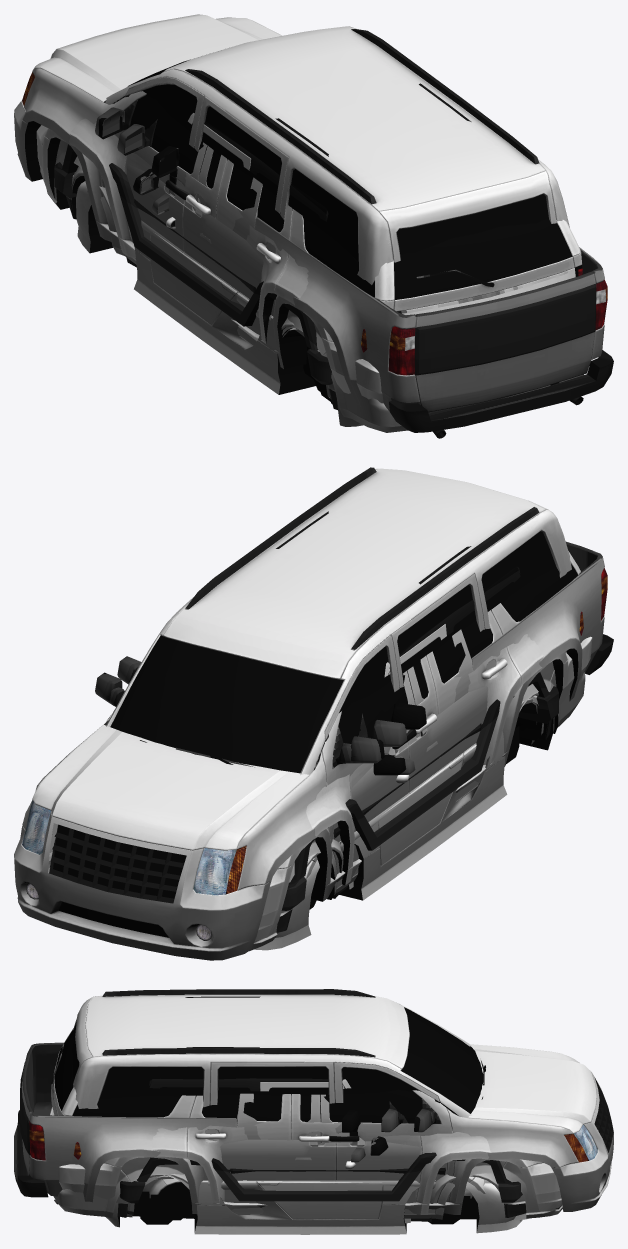
The model's file is traffic-pack.glb.
The picture shows the model from 3 angles, top to bottom: view 1: azimuth 30°, elevation 25°; view 2: azimuth 150°, elevation 25°; view 3: azimuth 270°, elevation 25°; orthographic projection. The views are drawn at different scales.
Parts seen in each view (by area): view 1: minivan, pickup, suv, sport, offroad, wagon; view 2: minivan, pickup, suv, sport, offroad, wagon; view 3: minivan, pickup, suv, sport, offroad, wagon, hatch, coupe, compact.
Boxes of the visible parts, bbox=[...] form: minivan: bbox=[47, 26, 583, 432]; pickup: bbox=[14, 14, 613, 438]; suv: bbox=[36, 83, 582, 403]; sport: bbox=[76, 181, 363, 426]; offroad: bbox=[54, 113, 332, 384]; wagon: bbox=[66, 166, 337, 409]; minivan: bbox=[106, 467, 585, 951]; pickup: bbox=[14, 541, 613, 960]; suv: bbox=[117, 511, 592, 940]; sport: bbox=[254, 717, 554, 950]; offroad: bbox=[281, 566, 558, 910]; wagon: bbox=[276, 692, 551, 932]; minivan: bbox=[53, 989, 562, 1219]; pickup: bbox=[14, 1042, 613, 1214]; suv: bbox=[50, 996, 562, 1215]; sport: bbox=[106, 1161, 522, 1234]; offroad: bbox=[120, 1078, 522, 1216]; wagon: bbox=[116, 1136, 526, 1221]; hatch: bbox=[127, 1137, 485, 1220]; coupe: bbox=[126, 1147, 529, 1223]; compact: bbox=[142, 1179, 472, 1198].
Size of the model in its own units: 2.07 by 1.69 by 5.18.
15 materials, 14 textured.
